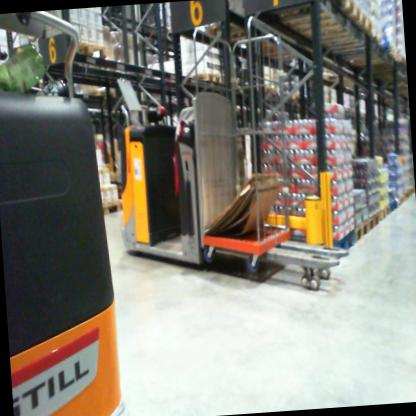pallet: (285, 0, 363, 38), (314, 9, 375, 51), (281, 228, 358, 260), (252, 0, 347, 23), (210, 12, 273, 46), (69, 35, 107, 66), (190, 63, 224, 87), (96, 192, 124, 221), (350, 219, 370, 245), (365, 208, 384, 234), (377, 202, 393, 221), (390, 200, 399, 214)
pallet_truck: (0, 11, 127, 416), (98, 51, 259, 269)
